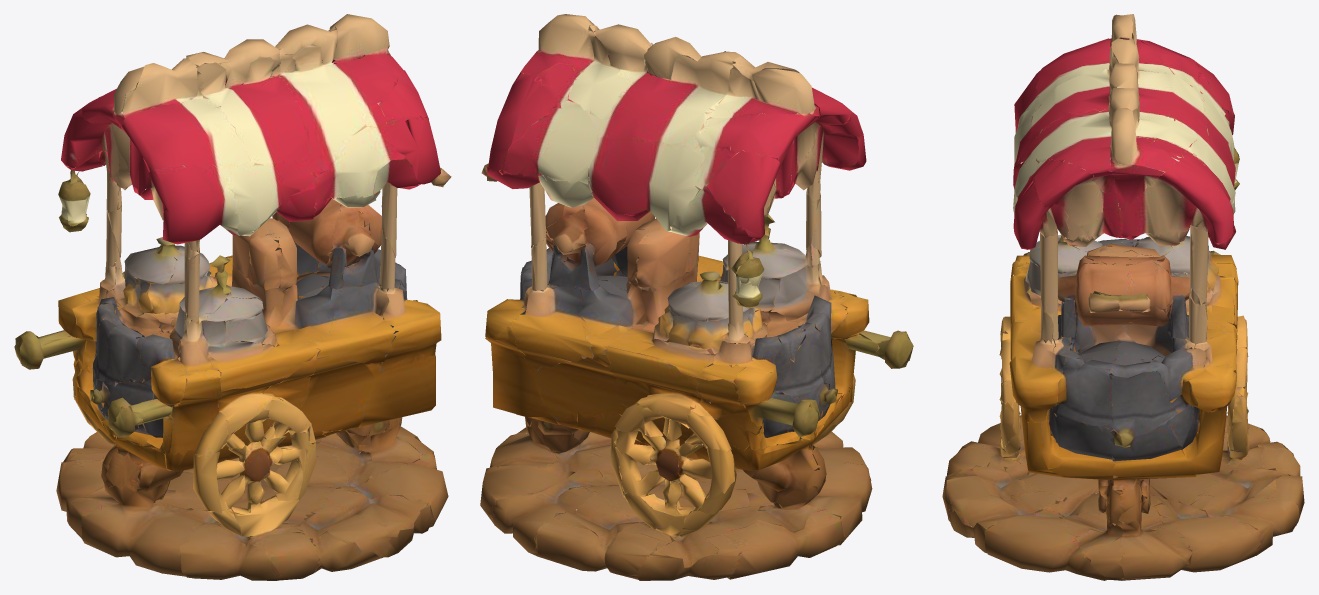
The model's file is prop-snack-cart.glb.
The picture shows the model from 3 angles, left to right: view 1: azimuth 30°, elevation 25°; view 2: azimuth 150°, elevation 25°; view 3: azimuth 270°, elevation 25°; orthographic projection. The views are drawn at different scales.
Parts seen in each view (by area): view 1: Mesh_0; view 2: Mesh_0; view 3: Mesh_0.
Part boxes in pixels (bbox=[...]): Mesh_0: bbox=[14, 14, 451, 580]; Mesh_0: bbox=[480, 14, 913, 580]; Mesh_0: bbox=[942, 14, 1304, 580].
Size of the model in its own units: 1.58 by 1.91 by 1.41.
1 material, 1 textured.
